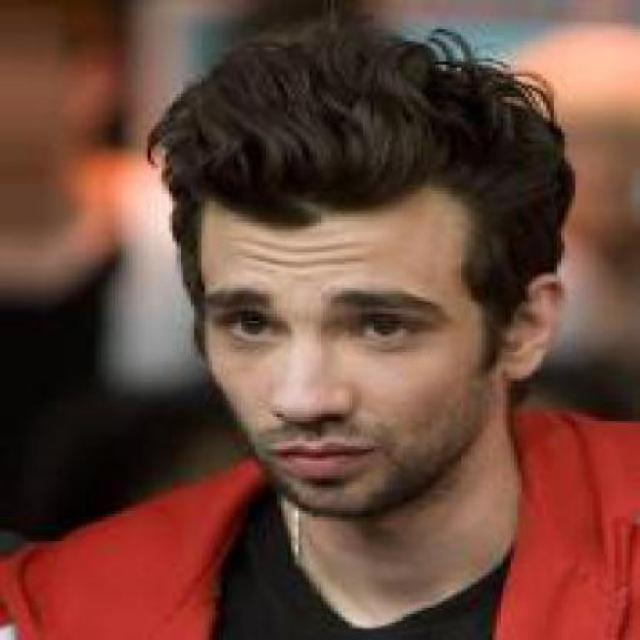closed-mouth: (272, 434, 374, 480)
